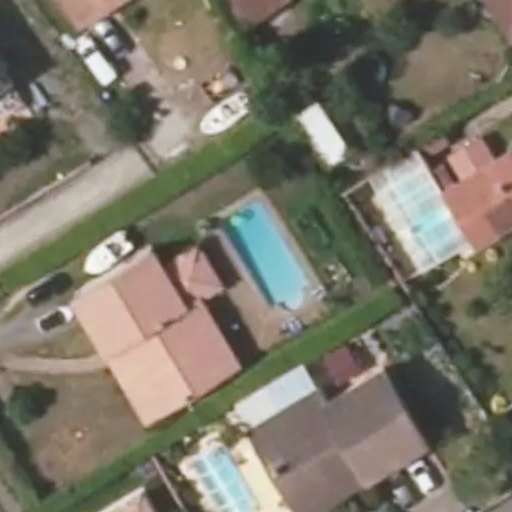pool: (221, 218, 290, 265)
